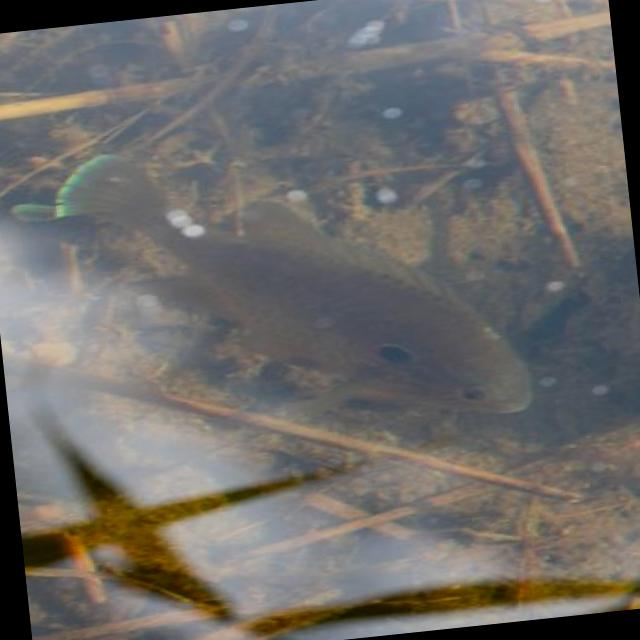Gunes Levregi: (42, 106, 542, 458)
